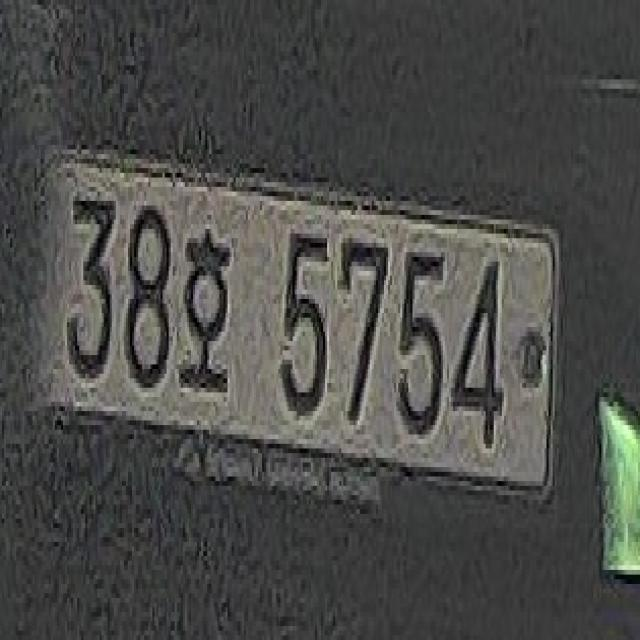3: (65, 187, 118, 383)
4: (449, 252, 504, 453)
5: (276, 215, 331, 420), (394, 238, 447, 439)
7: (339, 233, 390, 430)
8: (124, 201, 173, 397)
ho: (178, 215, 234, 406)
license_plate: (39, 140, 558, 509)
